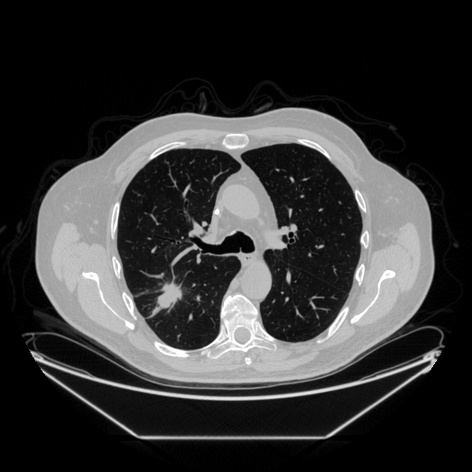PN: (157, 281, 183, 307)
